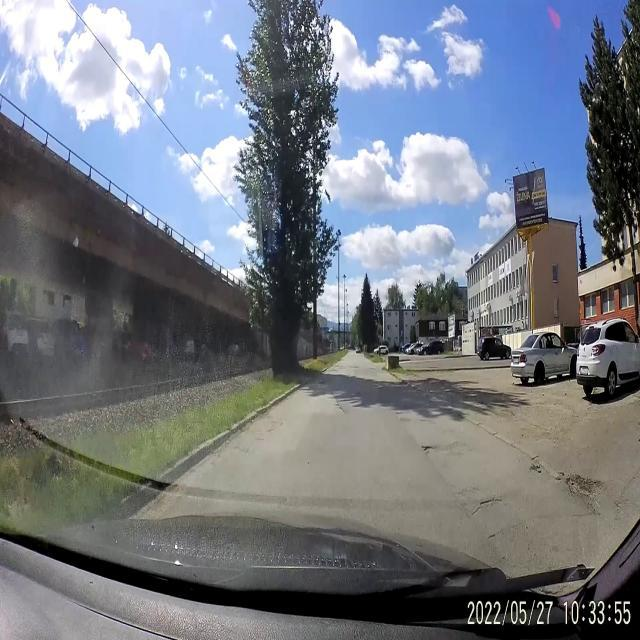Pothole: (548, 467, 626, 517), (328, 390, 352, 422), (471, 492, 498, 520), (420, 439, 438, 459), (314, 378, 334, 388)
